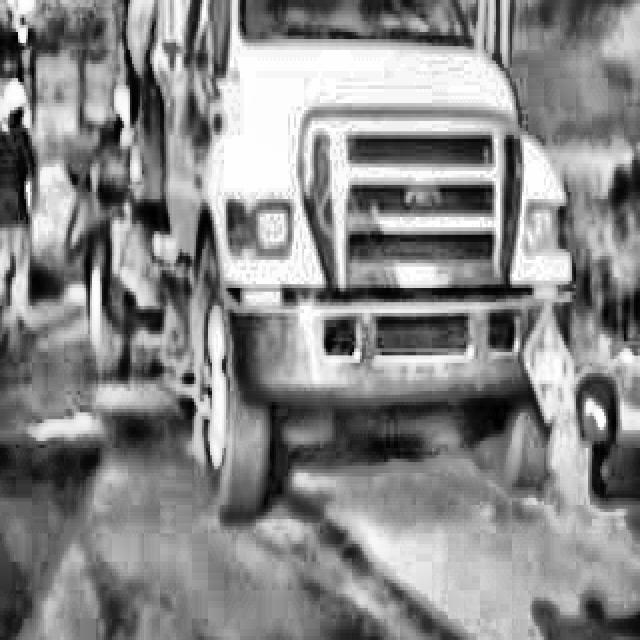dump_truck: (72, 0, 580, 537)
